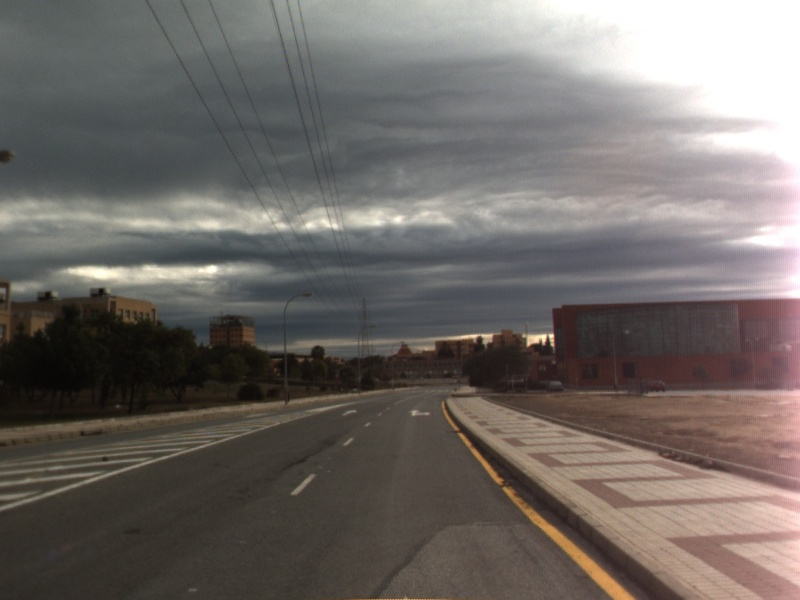STRAIGHT: (339, 407, 359, 418)
STRAIGHT_RIGHT: (406, 407, 433, 419)
